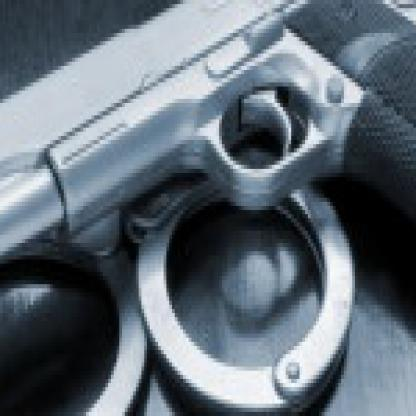gun: (0, 0, 413, 404)
